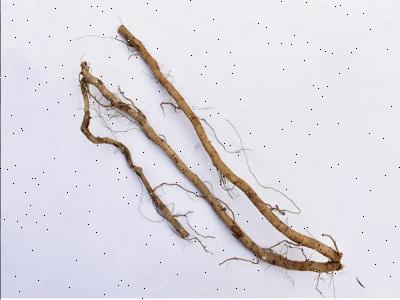Root: (80, 25, 342, 273)
